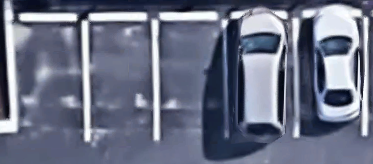Occupied: (225, 18, 296, 138), (296, 19, 365, 136)
Vacant: (11, 18, 87, 143), (85, 18, 157, 141), (156, 17, 227, 138)
